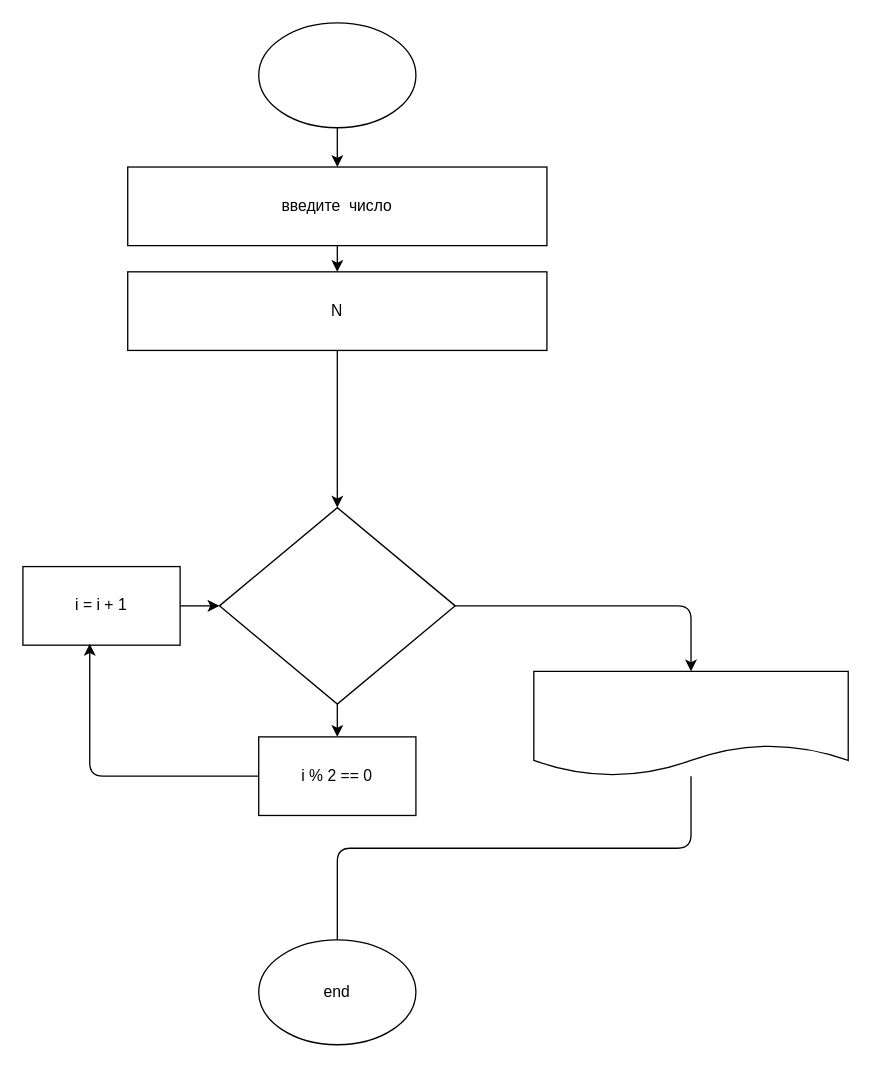
The diagram is 871 pixels wide and 1068 high, and some of its shapes have lost their labels. Here are the shapes that lost their labels. From the top down, the box of each, then its label:
(257, 22, 416, 128): start
(218, 506, 455, 704): i = 1 i <= N
(533, 670, 848, 776): i +
